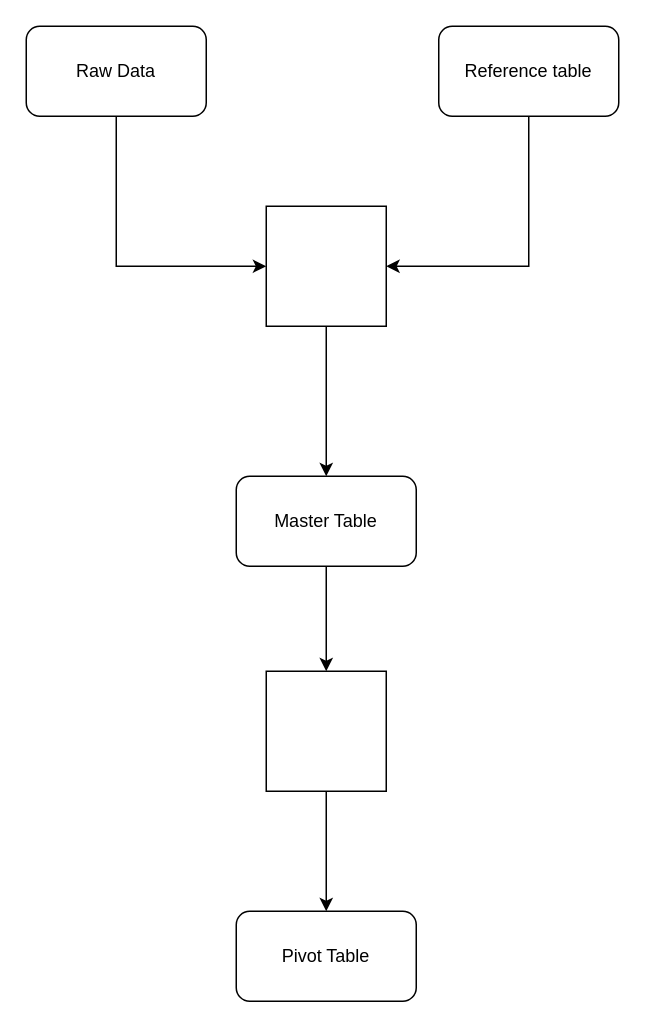
The diagram is 645 pixels wide and 1028 high, and some of its shapes have lost their labels. Each missing label, with the box of its shape:
Process Data: (265, 205, 386, 326)
Process Pivot: (265, 670, 386, 791)
